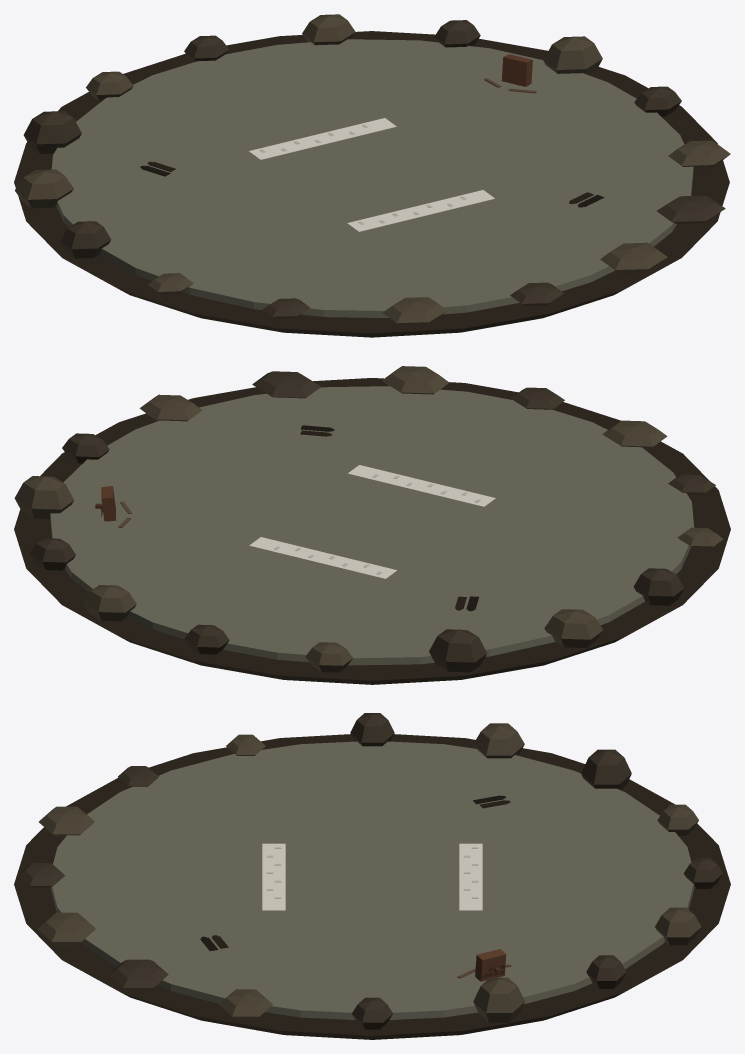
File: s3_arena_b26.glb
The picture shows the model from 3 angles, top to bottom: view 1: azimuth 30°, elevation 25°; view 2: azimuth 150°, elevation 25°; view 3: azimuth 270°, elevation 25°; orthographic projection.
Parts seen in each view (by area): view 1: s3_arena_b26; view 2: s3_arena_b26; view 3: s3_arena_b26.
Part boxes in pixels (x1,y1,x2,y2): s3_arena_b26: [14, 14, 730, 337]; s3_arena_b26: [14, 366, 730, 684]; s3_arena_b26: [14, 713, 730, 1039].
Bounding box in the file's own units: 36.4 × 2.53 × 36.4.
